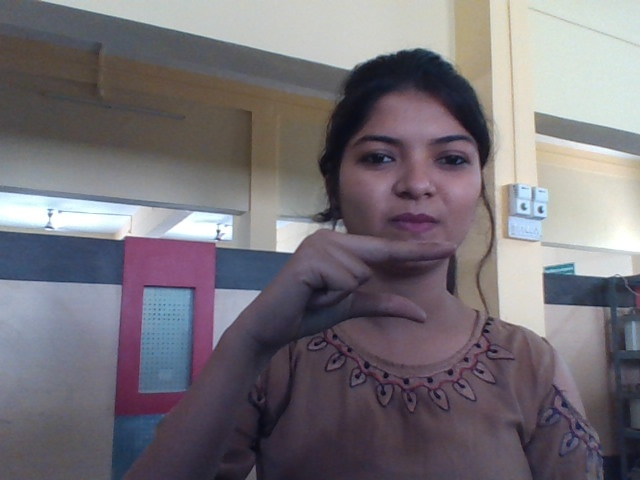no: (218, 224, 460, 348)
